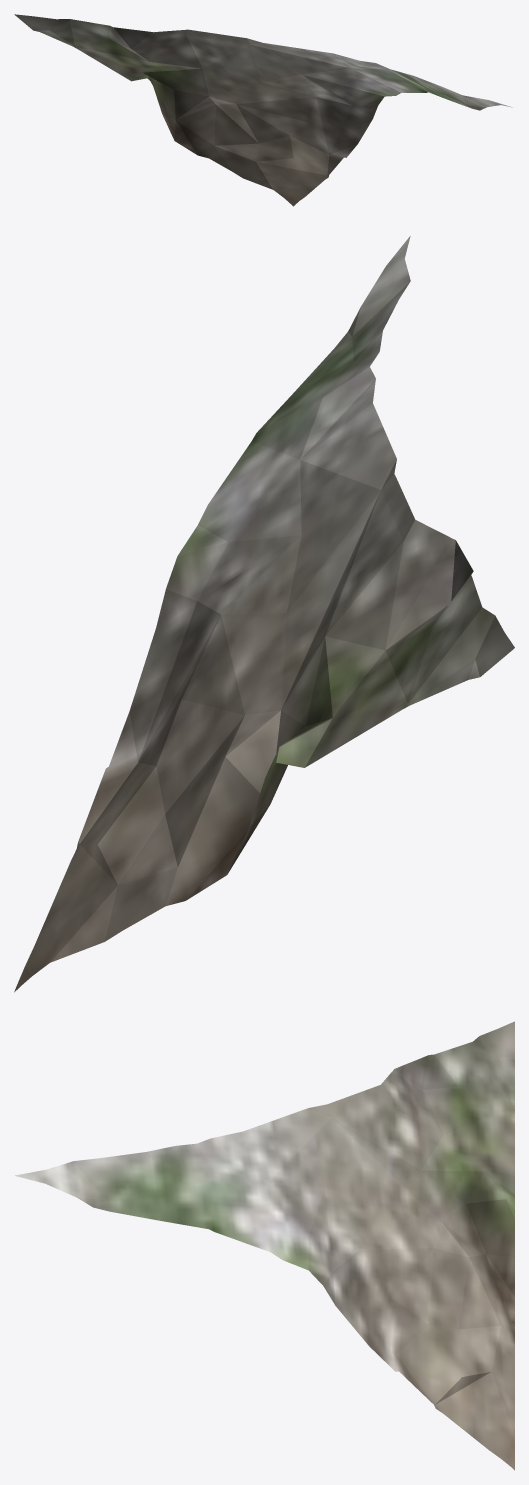
3 renders of one model, top to bottom at view 1: azimuth 30°, elevation 25°; view 2: azimuth 150°, elevation 25°; view 3: azimuth 270°, elevation 25°, orthographic. The views are drawn at different scales.
Size of the model in its own units: 0.7623 by 0.6794 by 1.05.
1 material, 1 textured.
